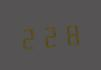eight: (61, 19, 81, 47)
two: (40, 20, 60, 49), (18, 22, 38, 50)
